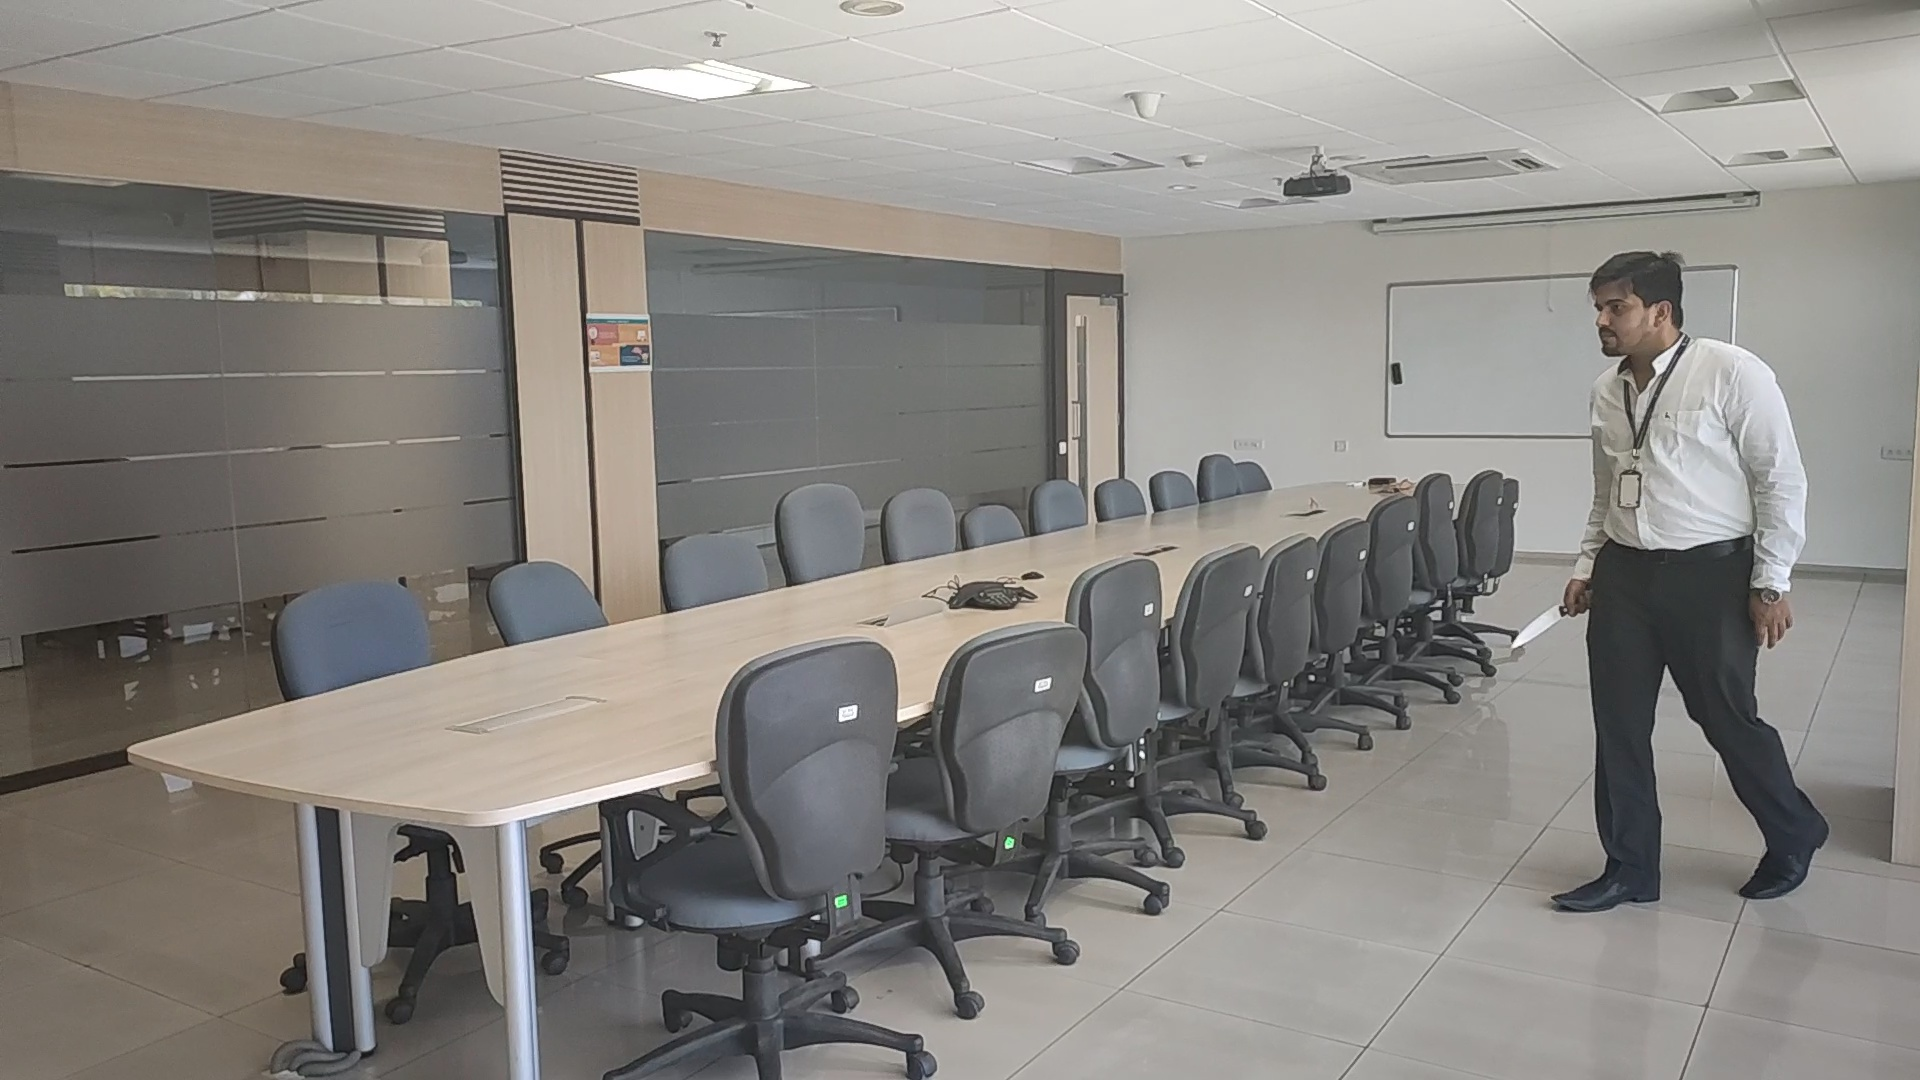knife: (1510, 603, 1564, 650)
